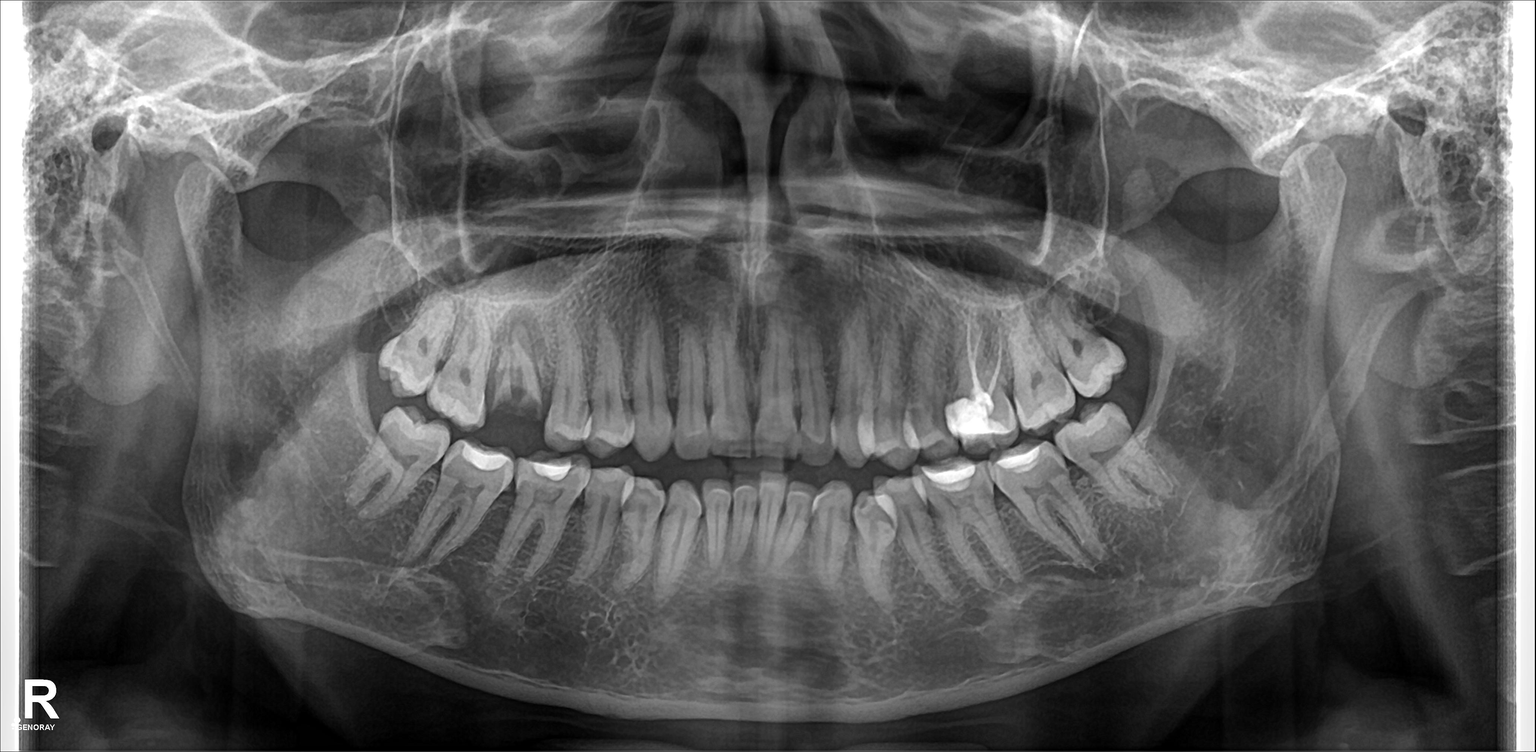Endodontically Treated Tooth: (952, 311, 1012, 434)
Retained Root: (490, 324, 553, 429)
